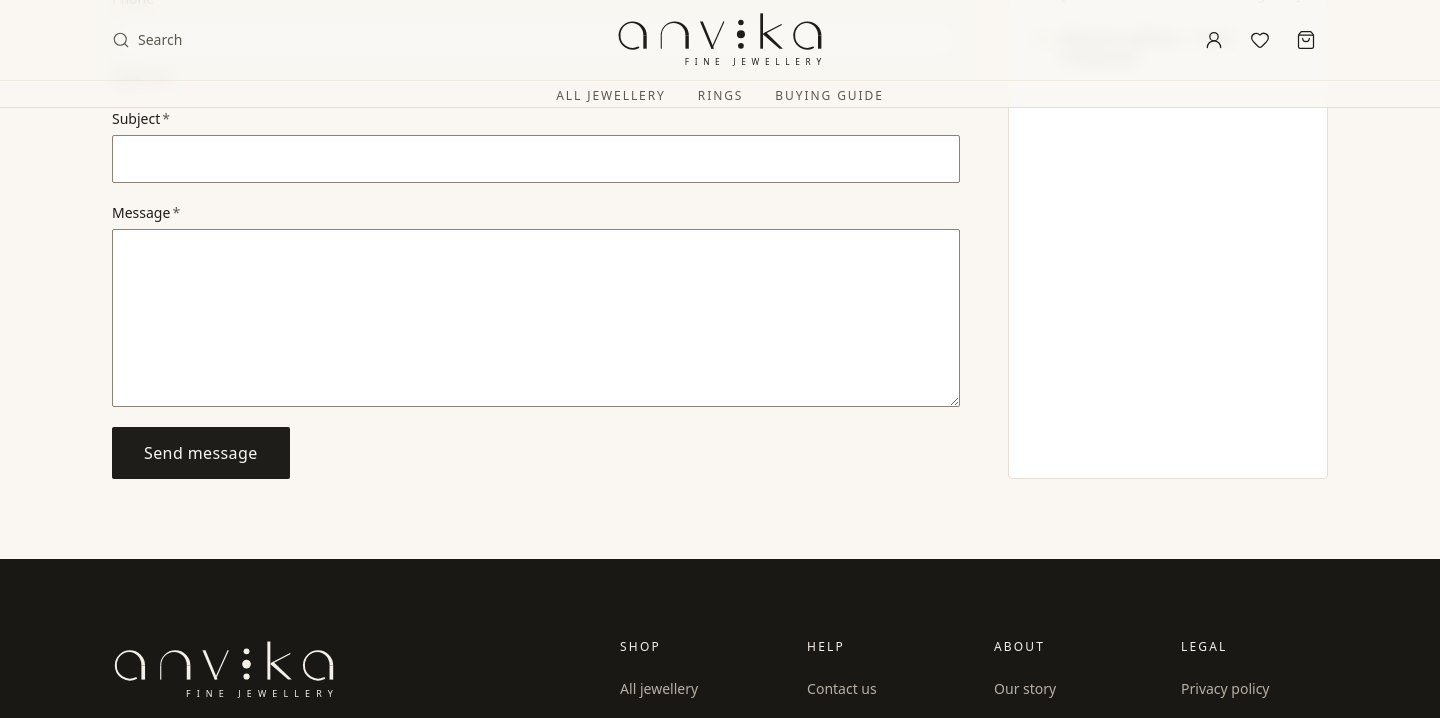
Scenario: contact form › shows field errors and does not submit invalid data
The width and height of the screenshot is (1440, 718).
(page scrolled)
Step 1. Click the button "Send message" → (201, 453), box top-left (112, 427), bottom-right (290, 479)
(page scrolled)
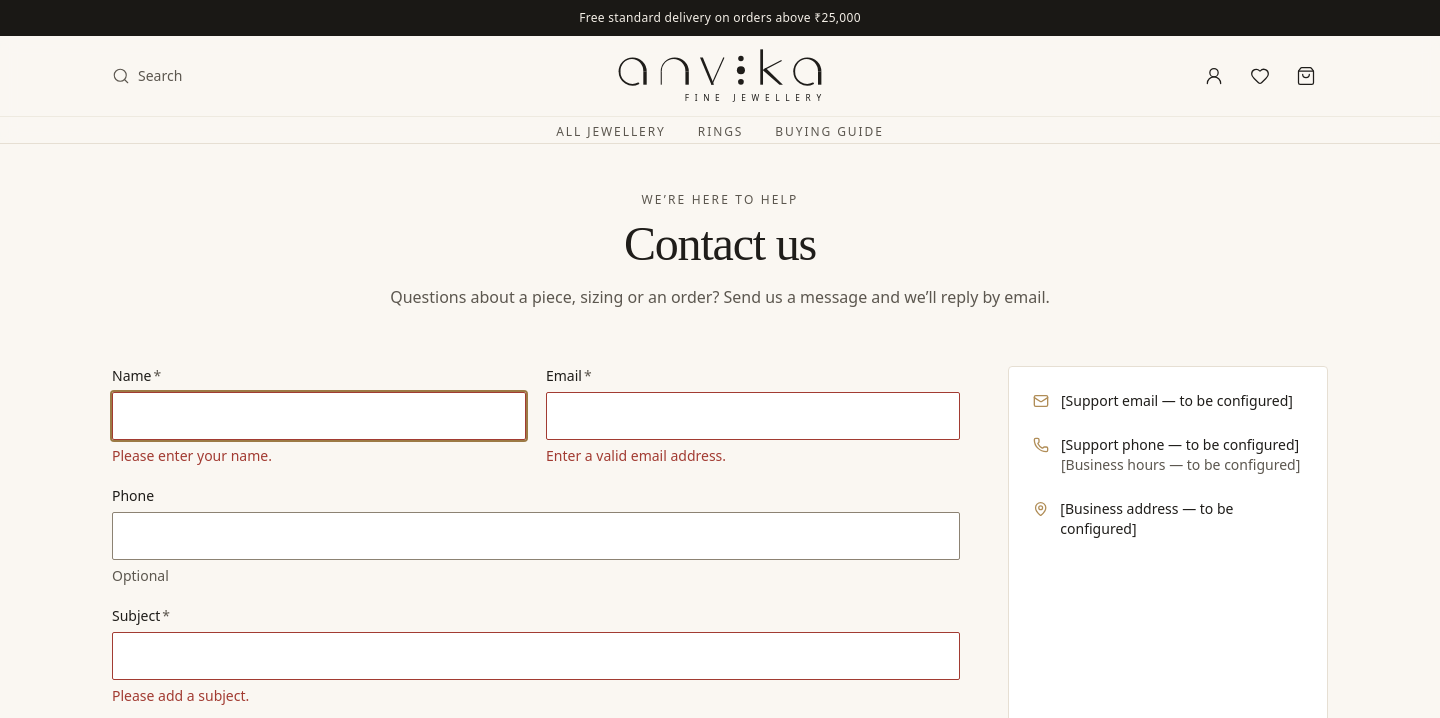
Expected: the text "Please enter your name." is shown, top-left (112, 446), bottom-right (272, 465)
Expected: the text "Enter a valid email address." is shown, top-left (546, 446), bottom-right (726, 465)
